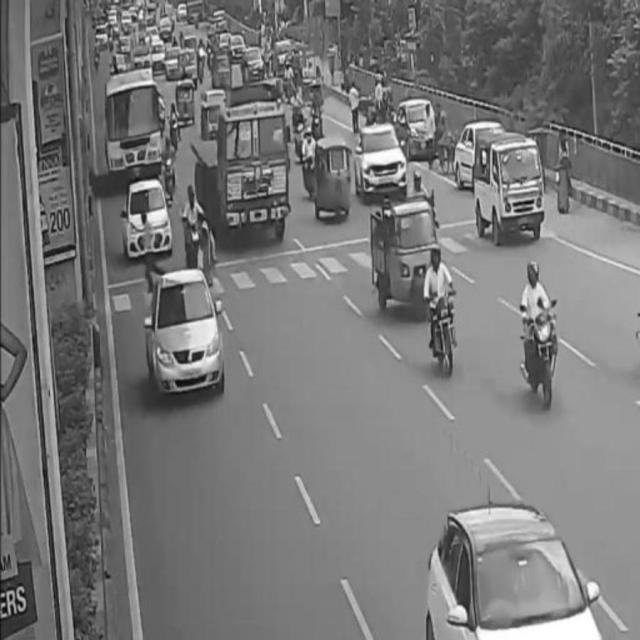accident: (181, 181, 216, 291)
person: (556, 140, 573, 213)
vehicle: (425, 507, 604, 640), (154, 251, 222, 402), (215, 101, 289, 239), (365, 200, 437, 311), (477, 136, 541, 239), (520, 256, 558, 410), (105, 80, 163, 176), (424, 245, 459, 379), (356, 127, 408, 195), (122, 179, 170, 249), (319, 132, 351, 222), (453, 126, 501, 184)
